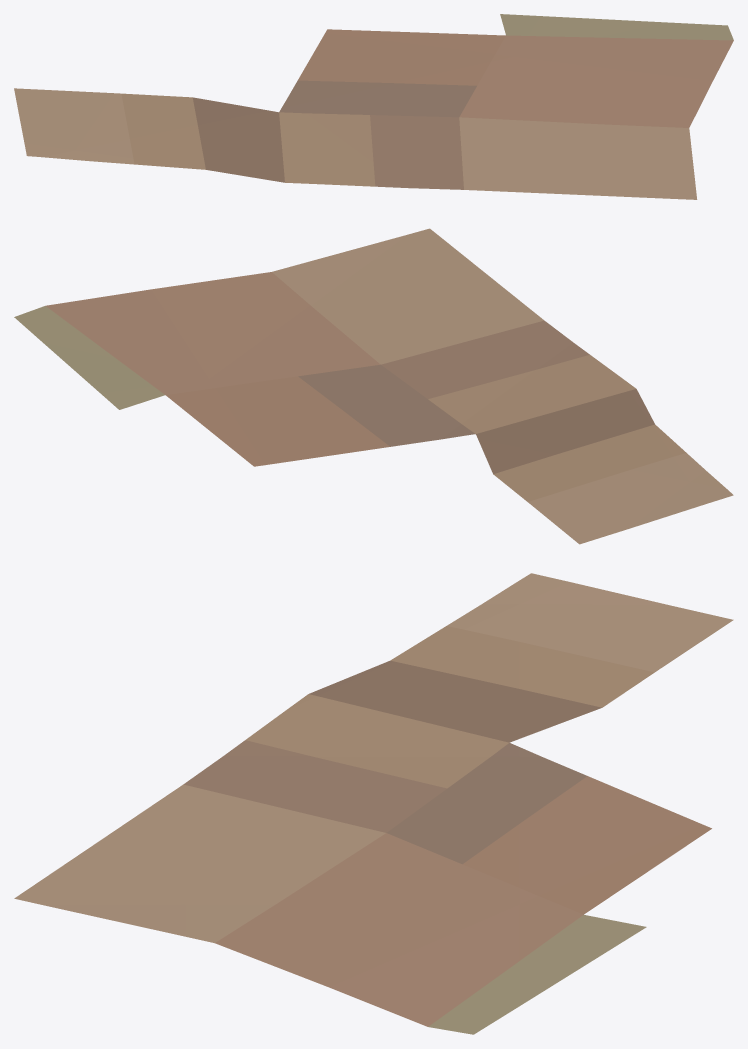
The model's file is farm_23_15_soil.glb.
3 views of the same model, one above another, from view 1: azimuth 30°, elevation 25°; view 2: azimuth 150°, elevation 25°; view 3: azimuth 270°, elevation 25° (orthographic). The views are drawn at different scales.
Visible parts, largest first — view 1: geometry_0; view 2: geometry_0; view 3: geometry_0.
Boxes of the visible parts, x1,y1,x2,y2 form: geometry_0: [14, 14, 733, 199]; geometry_0: [14, 228, 733, 544]; geometry_0: [14, 573, 733, 1034].
Size of the model in its own units: 247 by 6.63 by 172.
